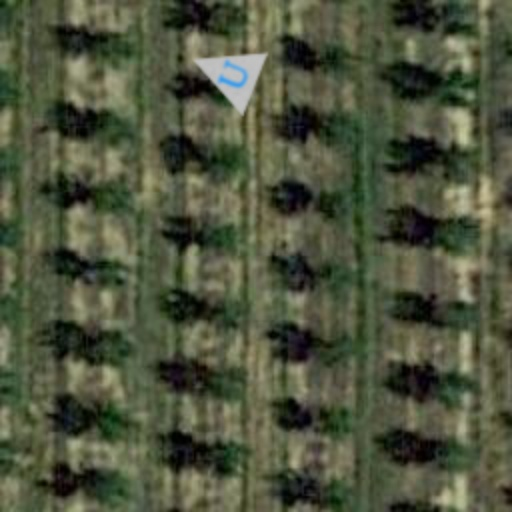triangle: (180, 28, 268, 116)
